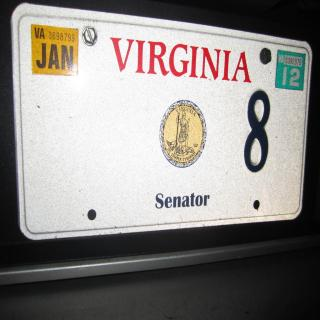license: (26, 15, 312, 239)
